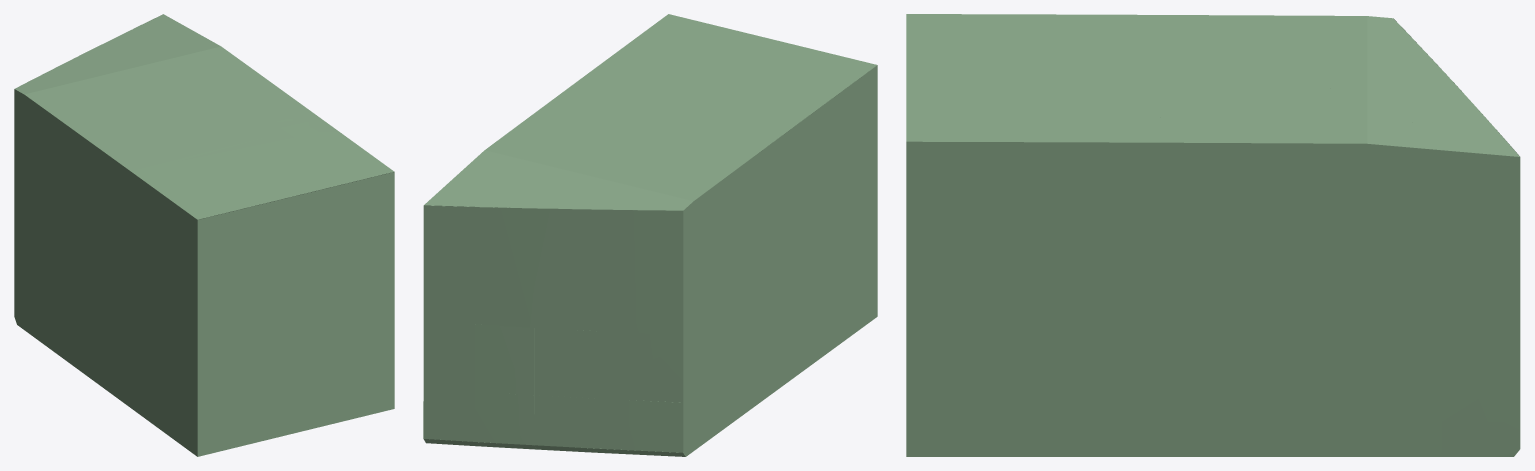
Rendered from DIST_WATER_STOR_TK_PS.glb.
3 views of the same model, side by side, from view 1: azimuth 30°, elevation 25°; view 2: azimuth 150°, elevation 25°; view 3: azimuth 270°, elevation 25° (orthographic). The views are drawn at different scales.
Visible parts, largest first — view 1: PL_No8LBHDxAPTP_006001-11_NVA_1993, PL_SideTransxFR6P_003001-11_NVA_1993, PL_UDxAPTP_014005-12_NVA_1993, PL_UDxAPTP_002005-12_NVA_1993, PL_SideTransxFR6P_001001-11_NVA_1993, PL_No8LBHDxAPTP_005001-11_NVA_1993, PL_No8LBHDxAPTP_005002-11_NVA_1993, PL_SideTransxFR6P_002001-11_NVA_1993, PL_SideTransxFR6P_002002-11_NVA_1993, PL_UDxAPTP_012003-12_NVA_1993, PL_No8LBHDxAPTP_006003-11_NVA_1993, PL_No8LBHDxAPTP_005005-11_NVA_1993 (+6 smaller); view 2: PL_OuterShellxAPTP_014005-18.5_NVA_1993, PL_SideTransxFR6P_003001-11_NVA_1993, PL_UDxAPTP_014005-12_NVA_1993, PL_OuterShellxAPTP_013010-18.5_NVA_1993, PL_UDxAPTP_002005-12_NVA_1993, PL_SideTransxFR6P_001001-11_NVA_1993, PL_OuterShellxAPTP_013011-18.5_NVA_1993, PL_UDxAPTP_012003-12_NVA_1993, PL_SideTransxFR6P_002001-11_NVA_1993, PL_SideTransxFR6P_002002-11_NVA_1993, PL_OuterShellxAPTP_014007-18.5_NVA_1993, PL_OuterShellxAPTP_013015-18.5_NVA_1993 (+7 smaller); view 3: PL_SideTransBHDxBHD13P_006001-11_NVA_1993, PL_SideTransBHDxBHD13P_005001-11_NVA_1993, PL_SideTransBHDxBHD13P_004002-11_NVA_1993, PL_UDxAPTP_014005-12_NVA_1993, PL_UDxAPTP_002005-12_NVA_1993, PL_SideTransBHDxBHD13P_003002-11_NVA_1993, PL_SideTransBHDxBHD13P_002001-11_NVA_1993, PL_SideTransBHDxBHD13P_004001-11_NVA_1993, PL_UDxAPTP_012003-12_NVA_1993, PL_SideTransBHDxBHD13P_005002-11_NVA_1993, PL_SideTransBHDxBHD13P_001001-11_NVA_1993, PL_SideTransBHDxBHD13P_003001-11_NVA_1993 (+7 smaller).
Part boxes in pixels (bbox=[...]): PL_No8LBHDxAPTP_006001-11_NVA_1993: bbox=[197, 181, 355, 350]; PL_SideTransxFR6P_003001-11_NVA_1993: bbox=[65, 124, 197, 350]; PL_UDxAPTP_014005-12_NVA_1993: bbox=[35, 64, 280, 166]; PL_UDxAPTP_002005-12_NVA_1993: bbox=[124, 128, 354, 219]; PL_SideTransxFR6P_001001-11_NVA_1993: bbox=[14, 89, 65, 306]; PL_No8LBHDxAPTP_005001-11_NVA_1993: bbox=[197, 312, 355, 403]; PL_No8LBHDxAPTP_005002-11_NVA_1993: bbox=[197, 365, 355, 456]; PL_SideTransxFR6P_002001-11_NVA_1993: bbox=[65, 254, 197, 403]; PL_SideTransxFR6P_002002-11_NVA_1993: bbox=[65, 307, 197, 456]; PL_UDxAPTP_012003-12_NVA_1993: bbox=[15, 29, 192, 102]; PL_No8LBHDxAPTP_006003-11_NVA_1993: bbox=[355, 172, 394, 311]; PL_No8LBHDxAPTP_005005-11_NVA_1993: bbox=[355, 302, 394, 391]; PL_OuterShellxAPTP_014005-18.5_NVA_1993: bbox=[475, 207, 683, 335]; PL_SideTransxFR6P_003001-11_NVA_1993: bbox=[737, 65, 877, 306]; PL_UDxAPTP_014005-12_NVA_1993: bbox=[538, 82, 798, 192]; PL_OuterShellxAPTP_013010-18.5_NVA_1993: bbox=[475, 324, 683, 402]; PL_UDxAPTP_002005-12_NVA_1993: bbox=[632, 24, 876, 122]; PL_SideTransxFR6P_001001-11_NVA_1993: bbox=[683, 169, 737, 402]; PL_OuterShellxAPTP_013011-18.5_NVA_1993: bbox=[475, 392, 683, 452]; PL_UDxAPTP_012003-12_NVA_1993: bbox=[475, 152, 704, 210]; PL_SideTransxFR6P_002001-11_NVA_1993: bbox=[737, 204, 877, 362]; PL_SideTransxFR6P_002002-11_NVA_1993: bbox=[737, 260, 877, 418]; PL_OuterShellxAPTP_014007-18.5_NVA_1993: bbox=[423, 205, 474, 324]; PL_OuterShellxAPTP_013015-18.5_NVA_1993: bbox=[423, 321, 474, 420]; PL_SideTransBHDxBHD13P_006001-11_NVA_1993: bbox=[906, 141, 1217, 315]; PL_SideTransBHDxBHD13P_005001-11_NVA_1993: bbox=[906, 315, 1217, 421]; PL_SideTransBHDxBHD13P_004002-11_NVA_1993: bbox=[1289, 143, 1436, 315]; PL_UDxAPTP_014005-12_NVA_1993: bbox=[1102, 14, 1338, 117]; PL_UDxAPTP_002005-12_NVA_1993: bbox=[906, 14, 1102, 116]; PL_SideTransBHDxBHD13P_003002-11_NVA_1993: bbox=[1289, 315, 1436, 421]; PL_SideTransBHDxBHD13P_002001-11_NVA_1993: bbox=[1436, 149, 1520, 315]; PL_SideTransBHDxBHD13P_004001-11_NVA_1993: bbox=[1217, 143, 1289, 315]; PL_UDxAPTP_012003-12_NVA_1993: bbox=[1338, 16, 1495, 129]; PL_SideTransBHDxBHD13P_005002-11_NVA_1993: bbox=[906, 422, 1217, 456]; PL_SideTransBHDxBHD13P_001001-11_NVA_1993: bbox=[1436, 315, 1520, 421]; PL_SideTransBHDxBHD13P_003001-11_NVA_1993: bbox=[1217, 315, 1289, 421].
Bounding box in the file's own units: 5.25 × 6.04 × 10.66.
